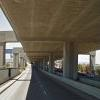Bridge: (3, 4, 87, 70)
